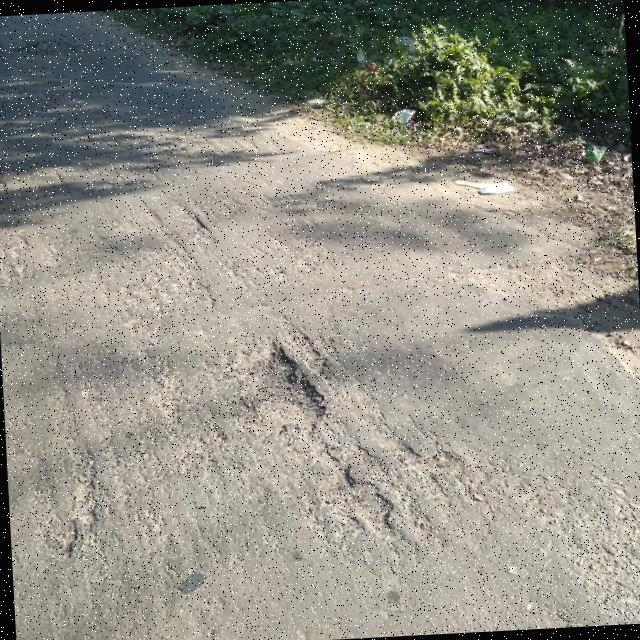Pothole: (232, 338, 326, 439)
